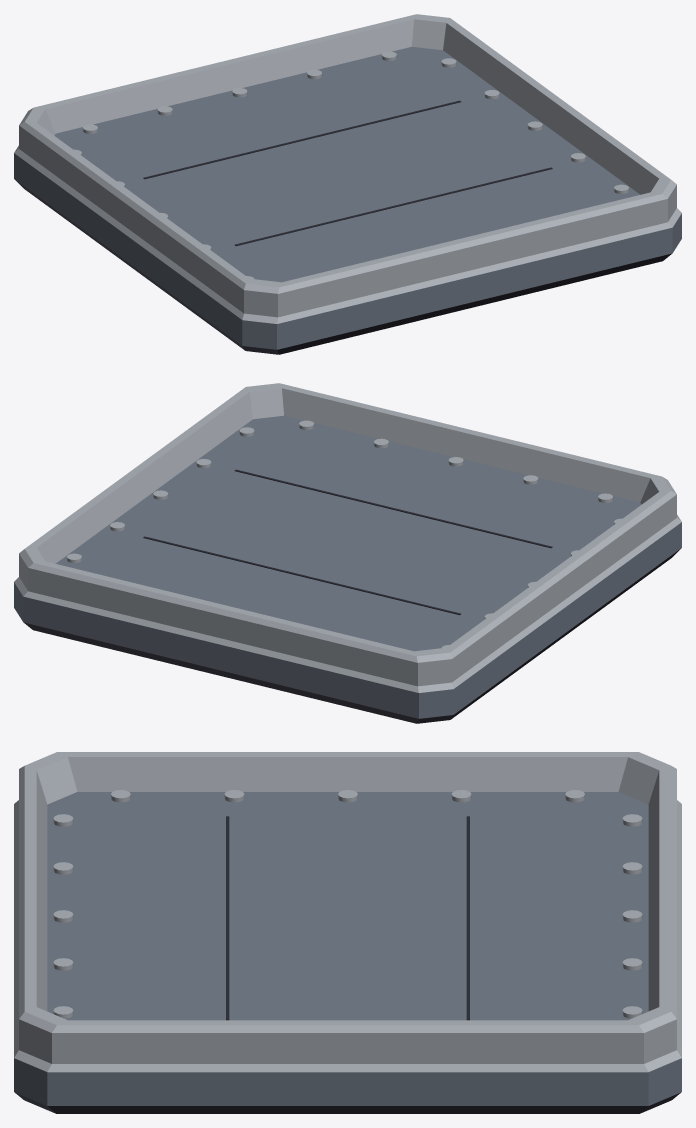
File: stone-keep.glb
3 views of the same model, one above another, from view 1: azimuth 30°, elevation 25°; view 2: azimuth 150°, elevation 25°; view 3: azimuth 270°, elevation 25° (orthographic). The views are drawn at different scales.
Parts seen in each view (by area): view 1: platform_mesh; view 2: platform_mesh; view 3: platform_mesh.
Part boxes in pixels (<box>): platform_mesh: <box>14,14,681,354</box>; platform_mesh: <box>14,383,681,723</box>; platform_mesh: <box>14,752,681,1113</box>.
Size of the model in its own units: 5 by 0.8 by 5.
